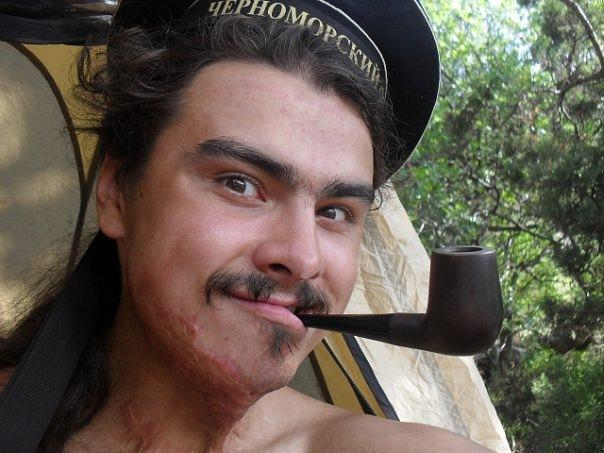trubka: (295, 246, 503, 355)
